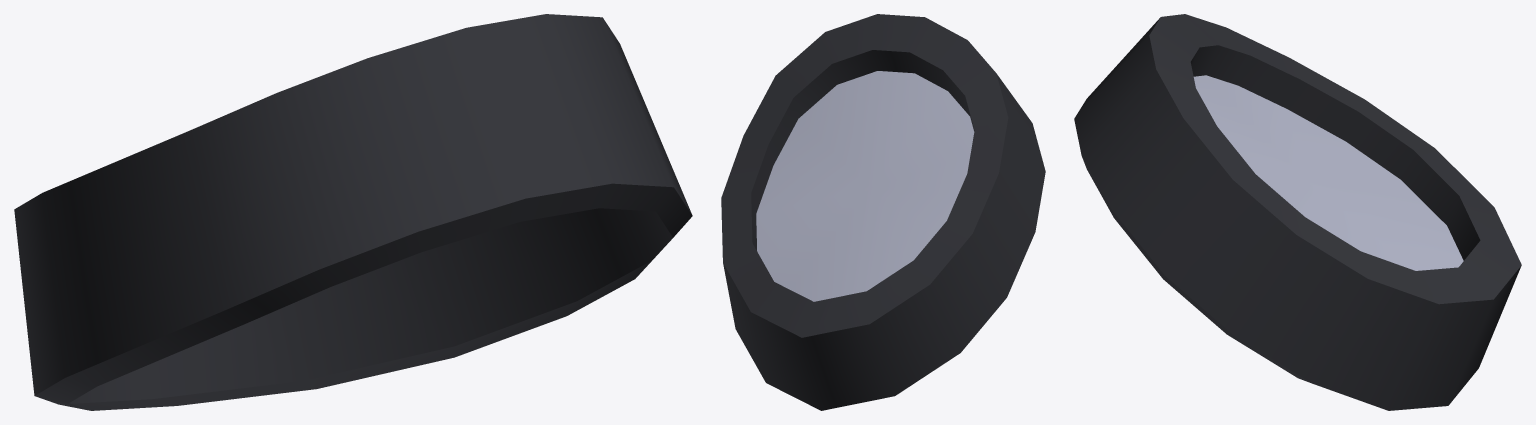
Rendered from hand_basic_straight.fbx.
3 renders of one model, left to right at view 1: azimuth 30°, elevation 25°; view 2: azimuth 150°, elevation 25°; view 3: azimuth 270°, elevation 25°, orthographic. The views are drawn at different scales.
Parts seen in each view (by area): view 1: pCube2; view 2: pCube2; view 3: pCube2.
Part boxes in pixels (left/top/right/bottom): pCube2: left=14, top=14, right=692, bottom=410; pCube2: left=721, top=14, right=1045, bottom=410; pCube2: left=1074, top=14, right=1521, bottom=410.
Size of what is drawn, in the model's own units: 3.68 by 3.61 by 4.17.
